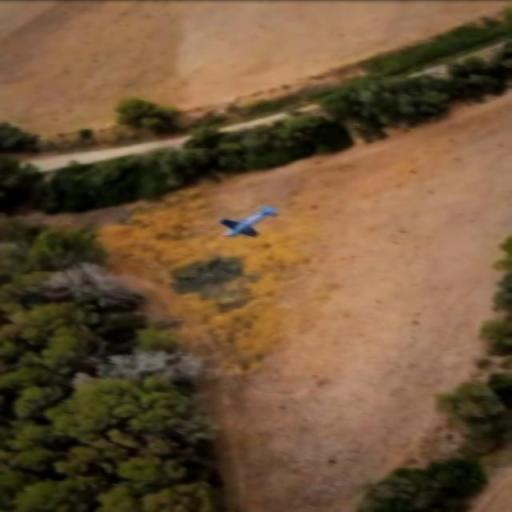uav: (218, 204, 279, 236)
